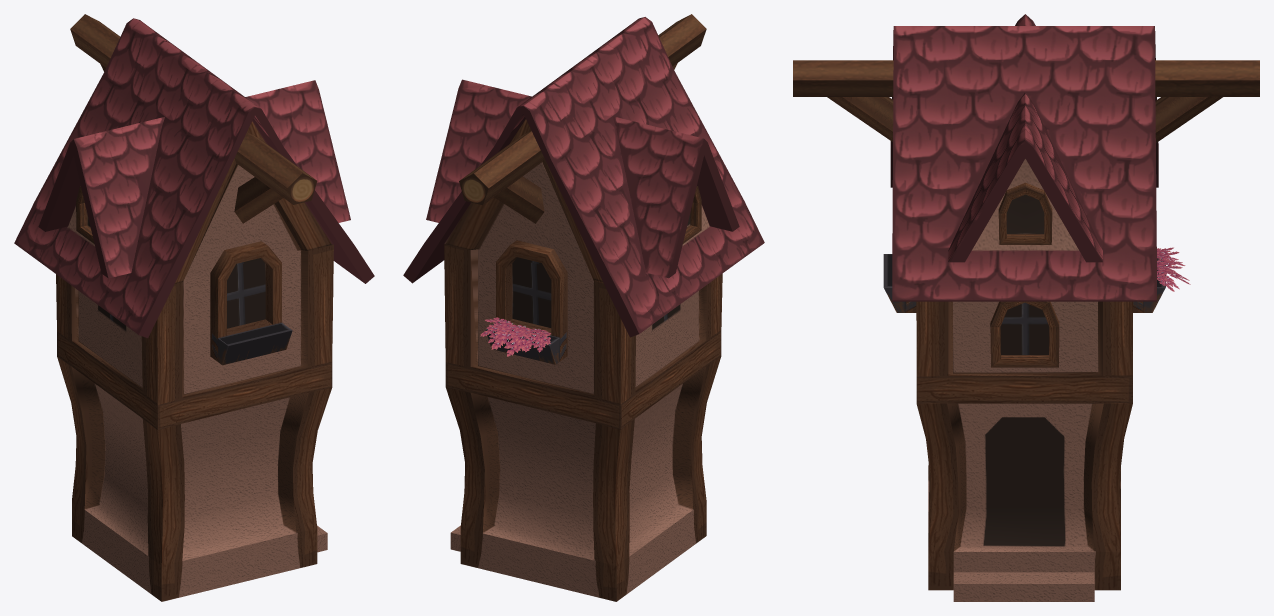
File: House9.obj
The picture shows the model from 3 angles, left to right: view 1: azimuth 30°, elevation 25°; view 2: azimuth 150°, elevation 25°; view 3: azimuth 270°, elevation 25°; orthographic projection. The views are drawn at different scales.
Visible parts, largest first — view 1: HouseMesh9; view 2: HouseMesh9; view 3: HouseMesh9.
Part boxes in pixels (<box>): HouseMesh9: <box>14,14,374,601</box>; HouseMesh9: <box>403,14,764,601</box>; HouseMesh9: <box>793,14,1259,601</box>.
Size of the model in its own units: 27.2 by 52.39 by 42.36.
